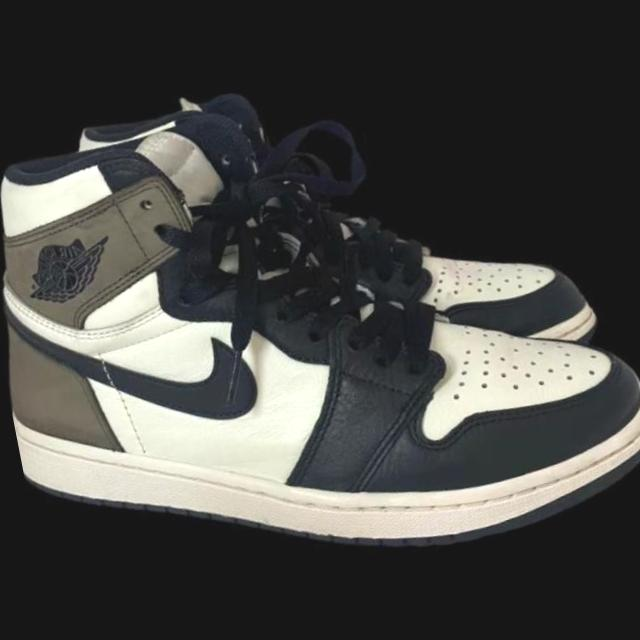nike_original_jordan: (0, 34, 640, 633), (52, 26, 617, 435)
